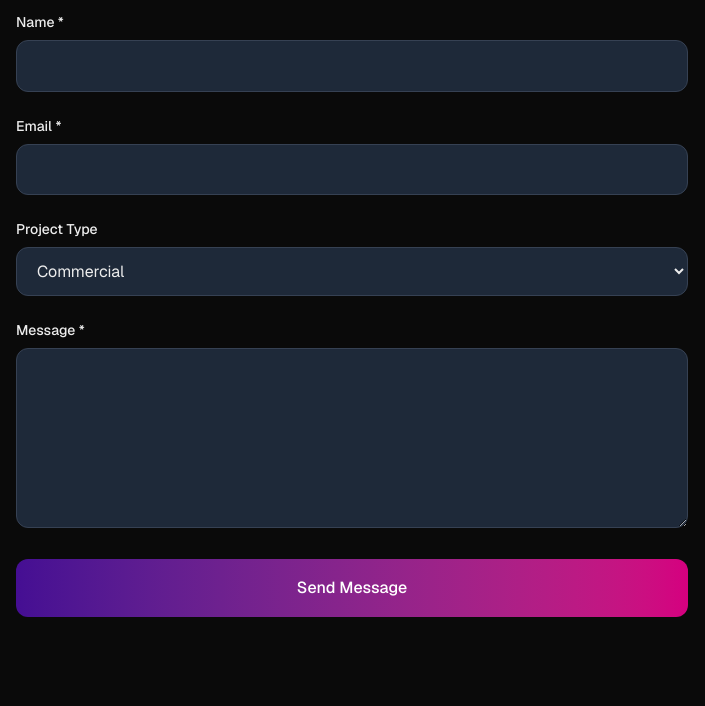
Test: ContactForm › shows validation errors for empty required fields
Click the button "Send Message". click: (352, 588)
box: [16,559,688,617]
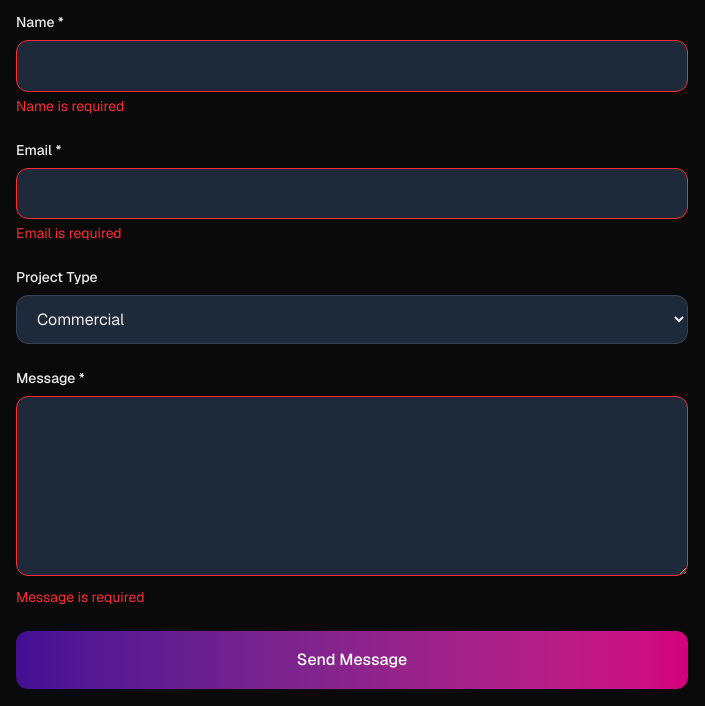
expect the text "Name is required" is shown: met, box [16,97,124,115]
expect the text "Email is required" is shown: met, box [16,224,122,242]
expect the text "Message is required" is shown: met, box [16,588,144,606]
